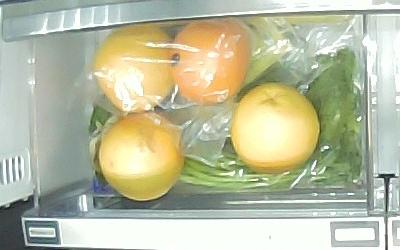grapefruit: (231, 83, 319, 174), (99, 113, 185, 201)
grapefruit_vinyl: (93, 27, 177, 112), (171, 18, 249, 105)
